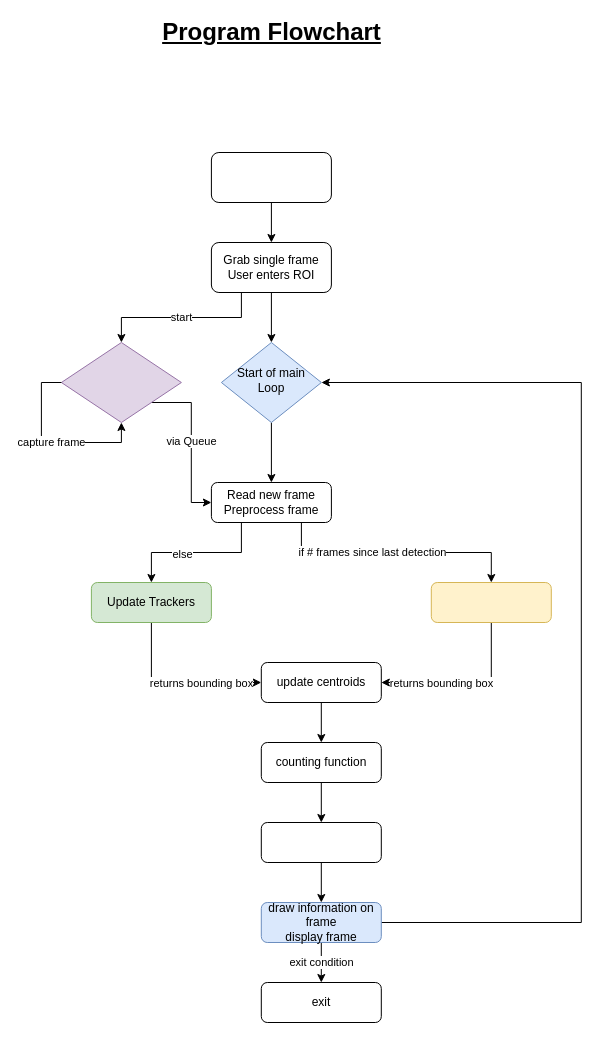
Image size: 607x1040. Some labels were removed from this diagram. Here are the shapes that lost their labels. From the top down, the centre of each, then its label:
(270,177): Setup: initialize variables etc..
(120,382): Video Capture in seperate Thread
(490,602): Run detection on frame
(320,842): add new counts to csv
